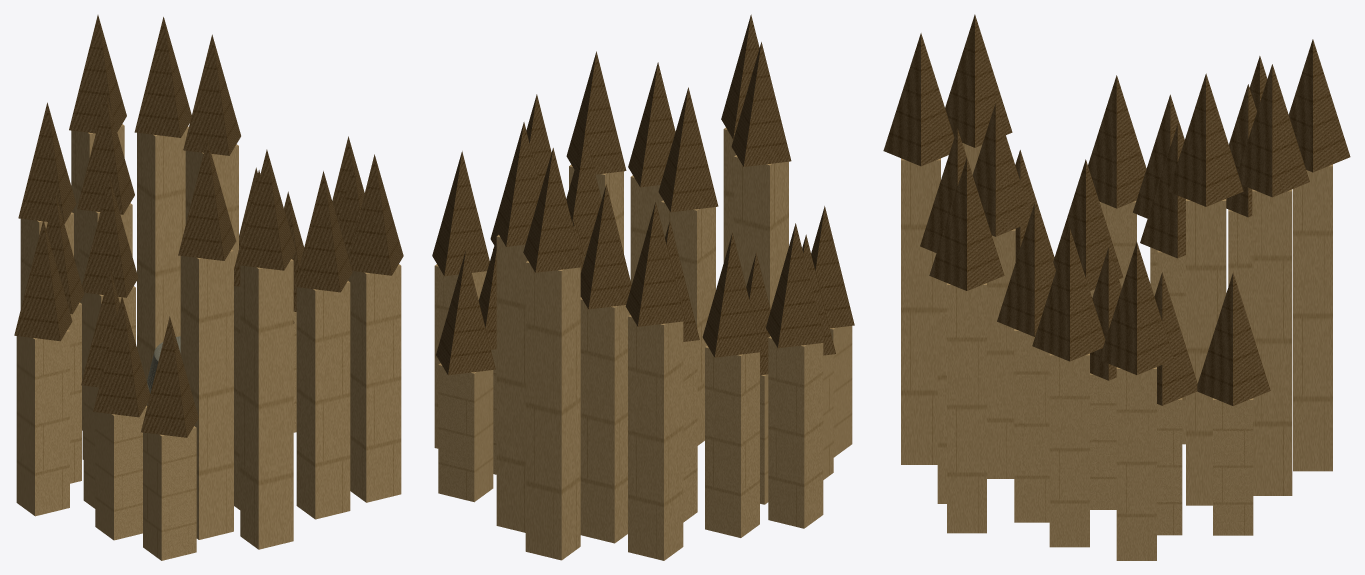
The model's file is terraced_town_01.fbx.
The picture shows the model from 3 angles, left to right: view 1: azimuth 30°, elevation 25°; view 2: azimuth 150°, elevation 25°; view 3: azimuth 270°, elevation 25°; orthographic projection. The views are drawn at different scales.
Parts seen in each view (by area): view 1: terraced_town_01_LOD0; view 2: terraced_town_01_LOD0; view 3: terraced_town_01_LOD0.
Boxes of the visible parts, <box> form: terraced_town_01_LOD0: <box>14,15,403,560</box>; terraced_town_01_LOD0: <box>432,14,854,560</box>; terraced_town_01_LOD0: <box>883,14,1350,560</box>.
Size of what is drawn, in the model's own units: 1 by 1 by 1.
